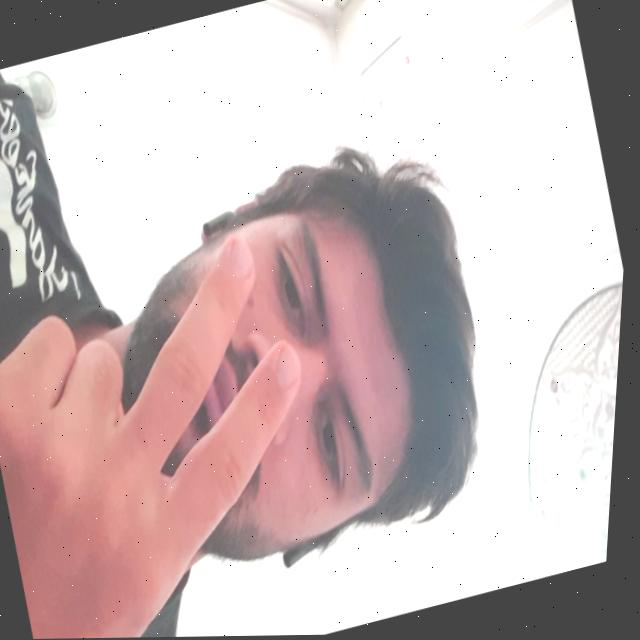Head: (62, 117, 541, 616)
Two: (0, 226, 378, 640)
